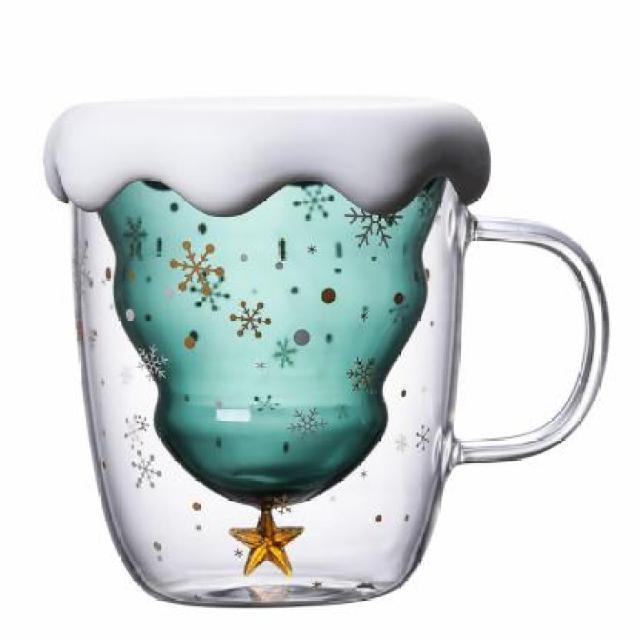taza: (41, 99, 608, 609)
